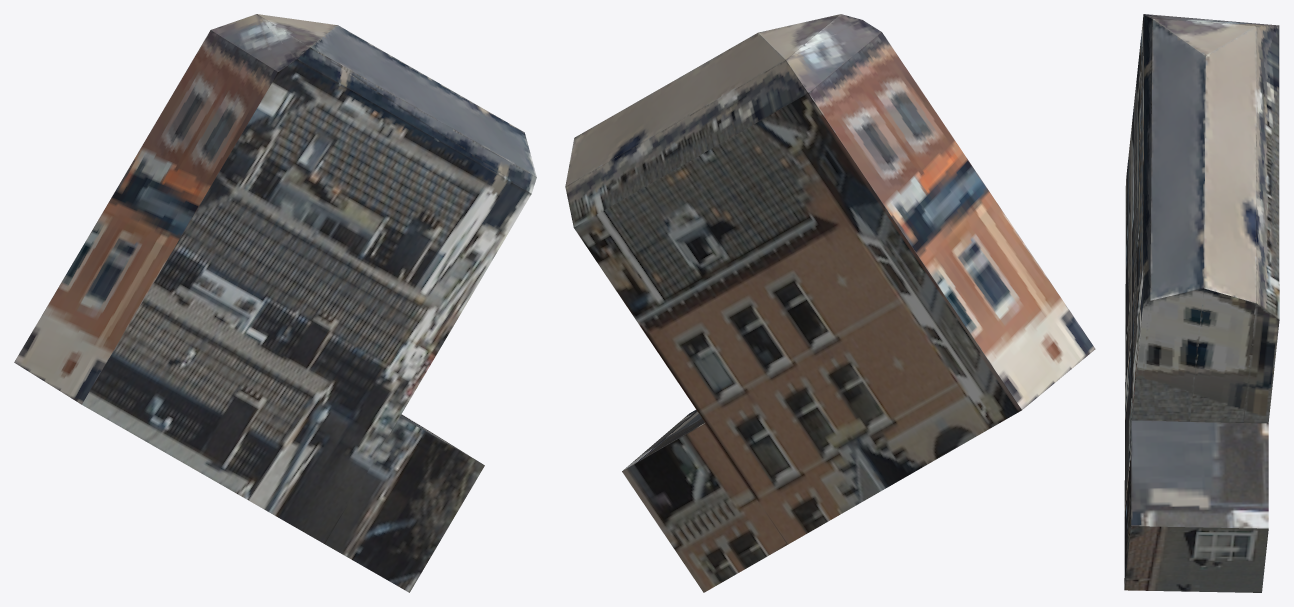
3 views of the same model, side by side, from view 1: azimuth 30°, elevation 25°; view 2: azimuth 150°, elevation 25°; view 3: azimuth 270°, elevation 25° (orthographic). The views are drawn at different scales.
Visible parts, largest first — view 1: BAG_0599100000760416 (×6); view 2: BAG_0599100000760416 (×4); view 3: BAG_0599100000760416 (×6).
Boxes of the visible parts, left/top/right/bottom form: BAG_0599100000760416 (×6): left=14, top=14, right=536, bottom=592; BAG_0599100000760416 (×4): left=565, top=14, right=1095, bottom=592; BAG_0599100000760416 (×6): left=1124, top=14, right=1279, bottom=592.
Bounding box in the file's own units: 18.61 × 20.6 × 5.4.
Materials: 5 (5 with a texture image).
